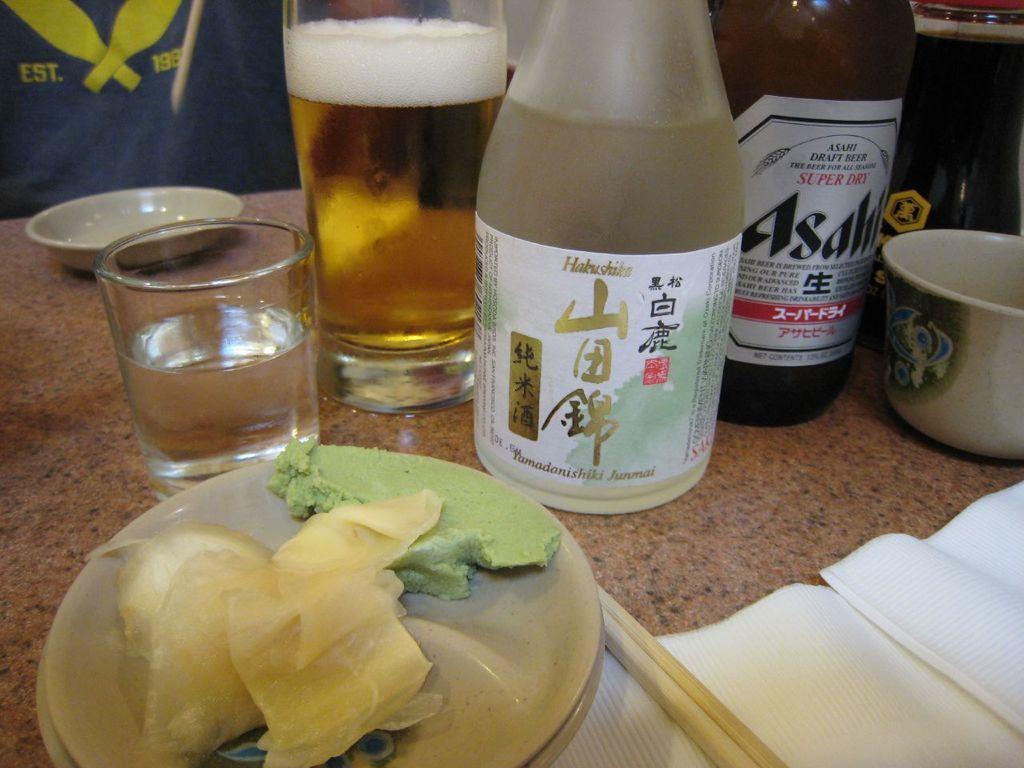Beer: (268, 0, 506, 428), (705, 2, 915, 429)
